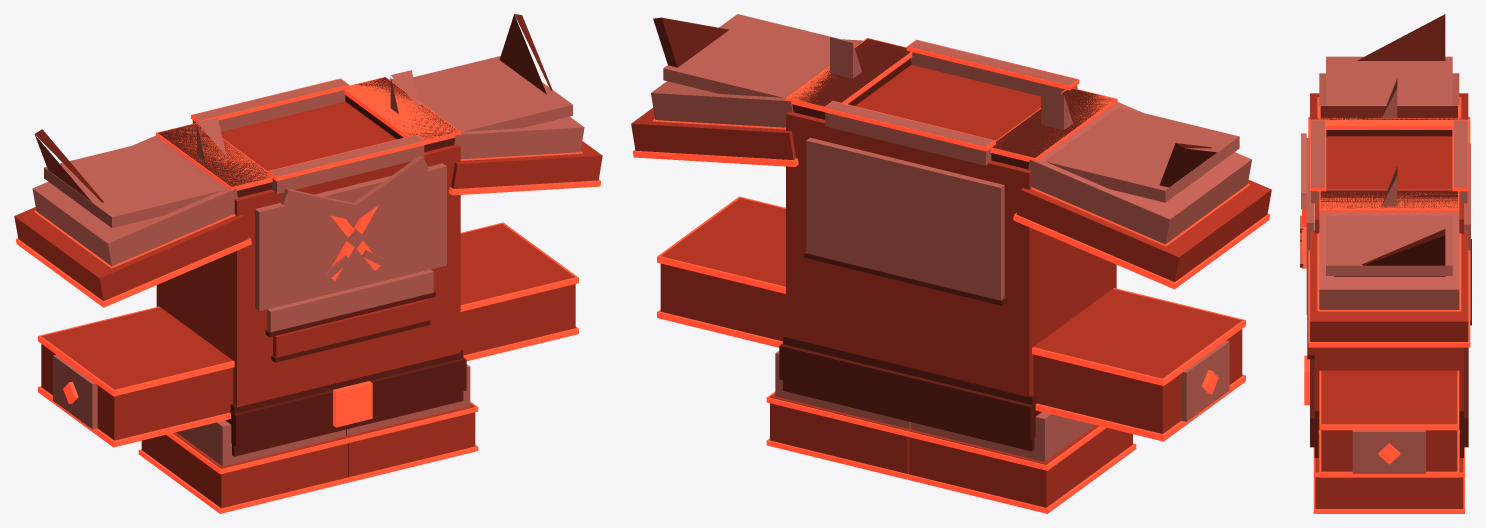
3 renders of one model, left to right at view 1: azimuth 30°, elevation 25°; view 2: azimuth 150°, elevation 25°; view 3: azimuth 270°, elevation 25°, orthographic. The views are drawn at different scales.
Parts seen in each view (by area): view 1: rank-attacker-c; view 2: rank-attacker-c; view 3: rank-attacker-c.
Boxes of the visible parts, x1=… form: rank-attacker-c: x1=14, y1=14, x2=602, y2=513; rank-attacker-c: x1=631, y1=14, x2=1271, y2=513; rank-attacker-c: x1=1300, y1=14, x2=1471, y2=513.
Bounding box in the file's own units: 1.24 × 0.8451 × 0.3947.
